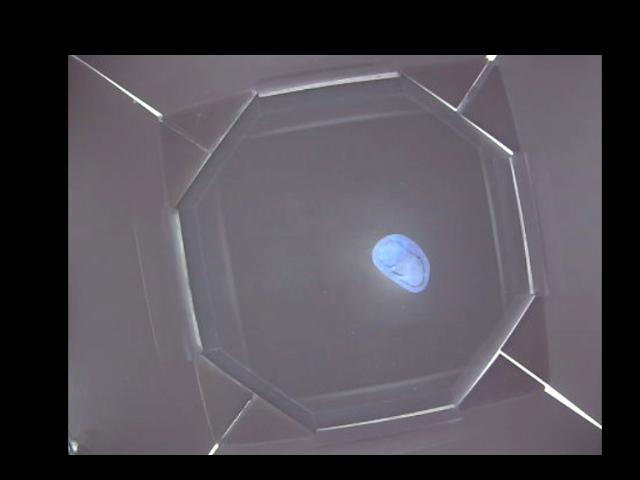Pebble: (371, 232, 431, 295)
